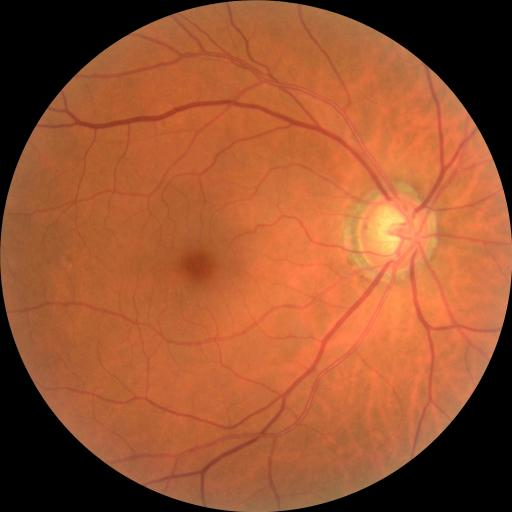Optic Cup: (375, 206, 413, 252)
Optic Disc: (358, 193, 431, 274)
